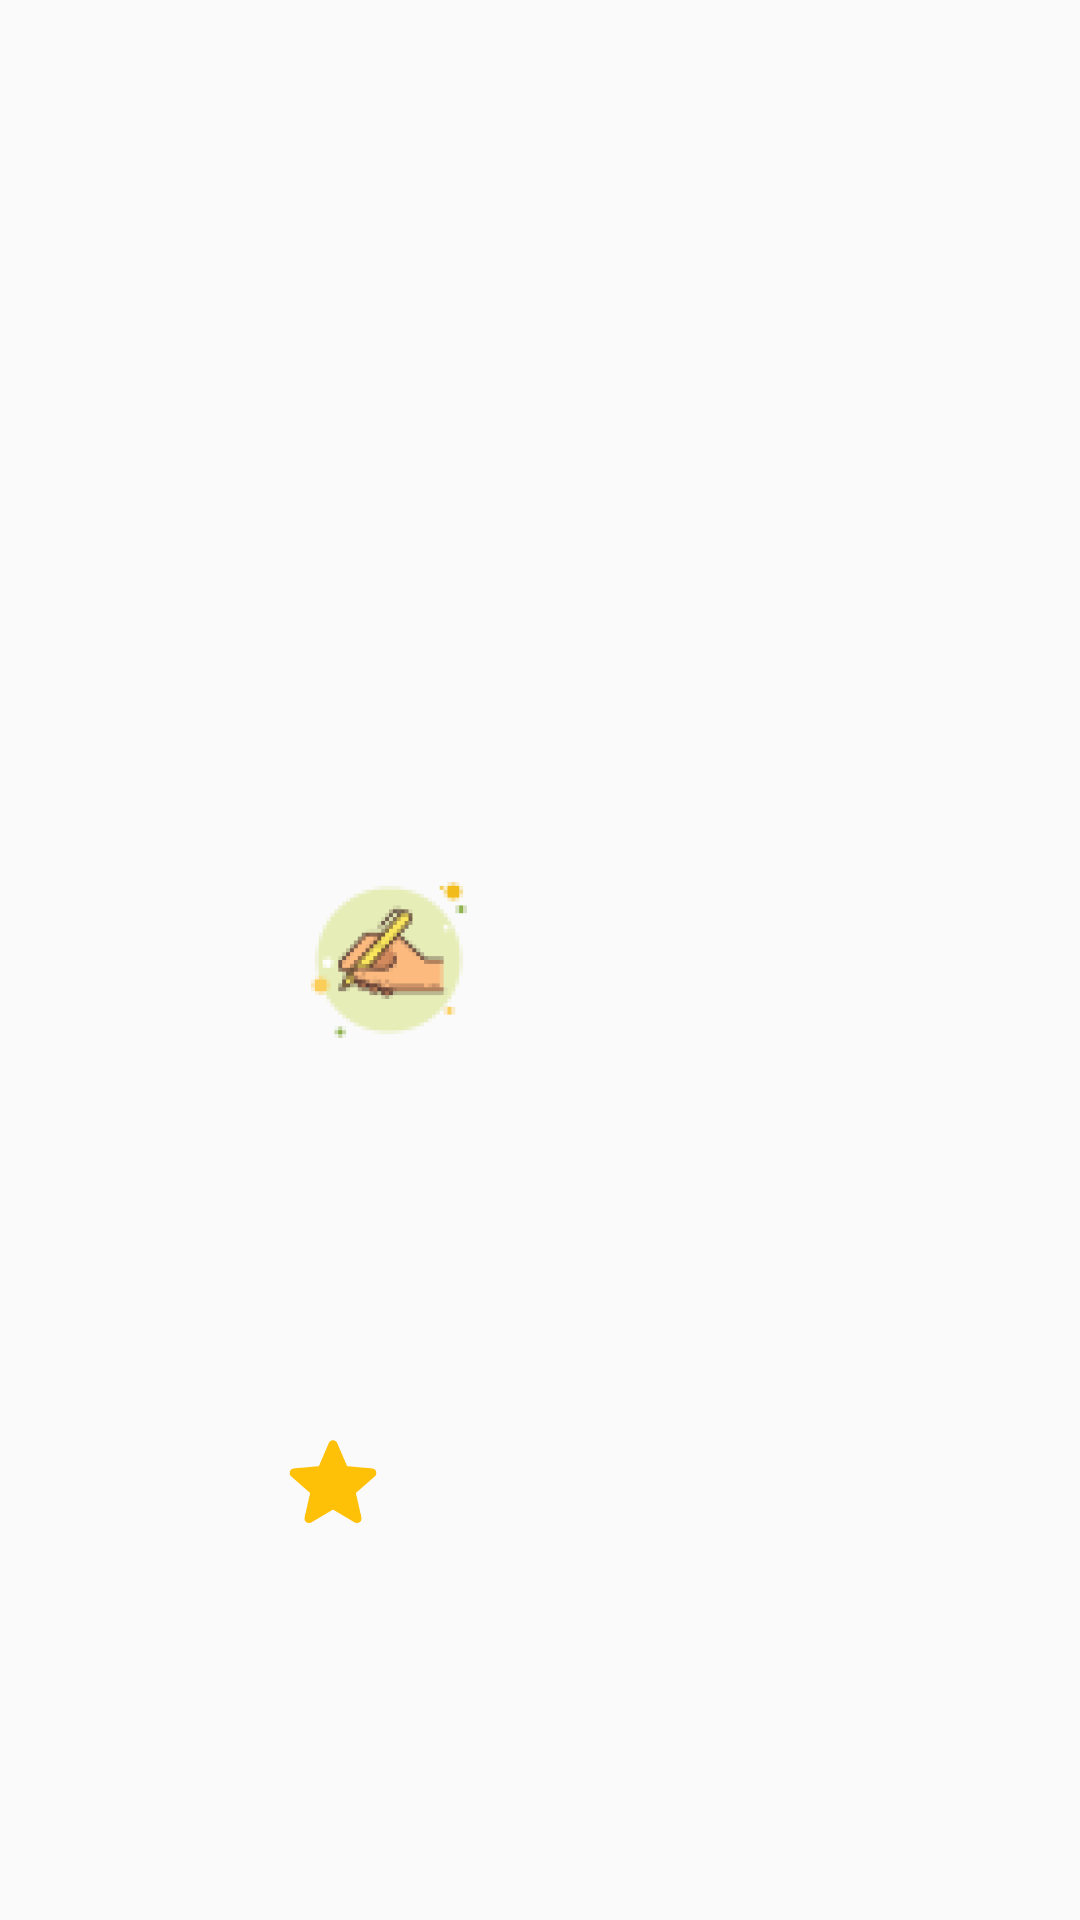

Named icons in this screenshot (1080px x 1920px) and their bounding boxes, (x1, y1, x2, y2):
hand: (311, 882, 467, 1038)
star: (289, 1440, 377, 1523)
